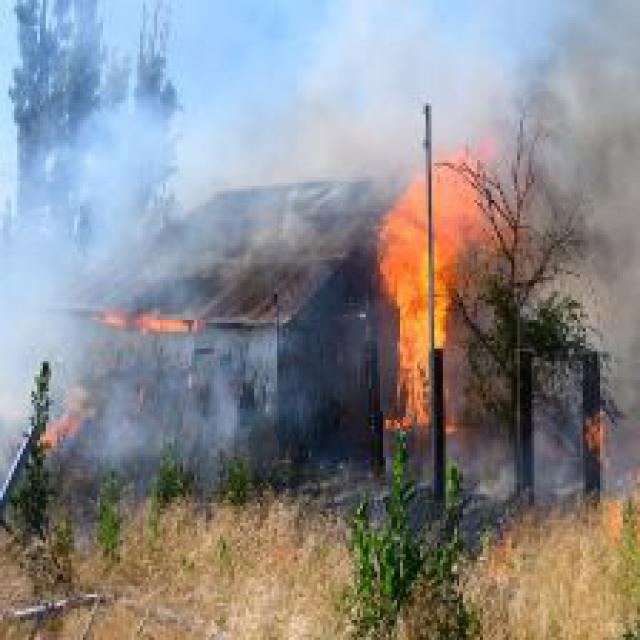fire: (354, 143, 500, 440)
